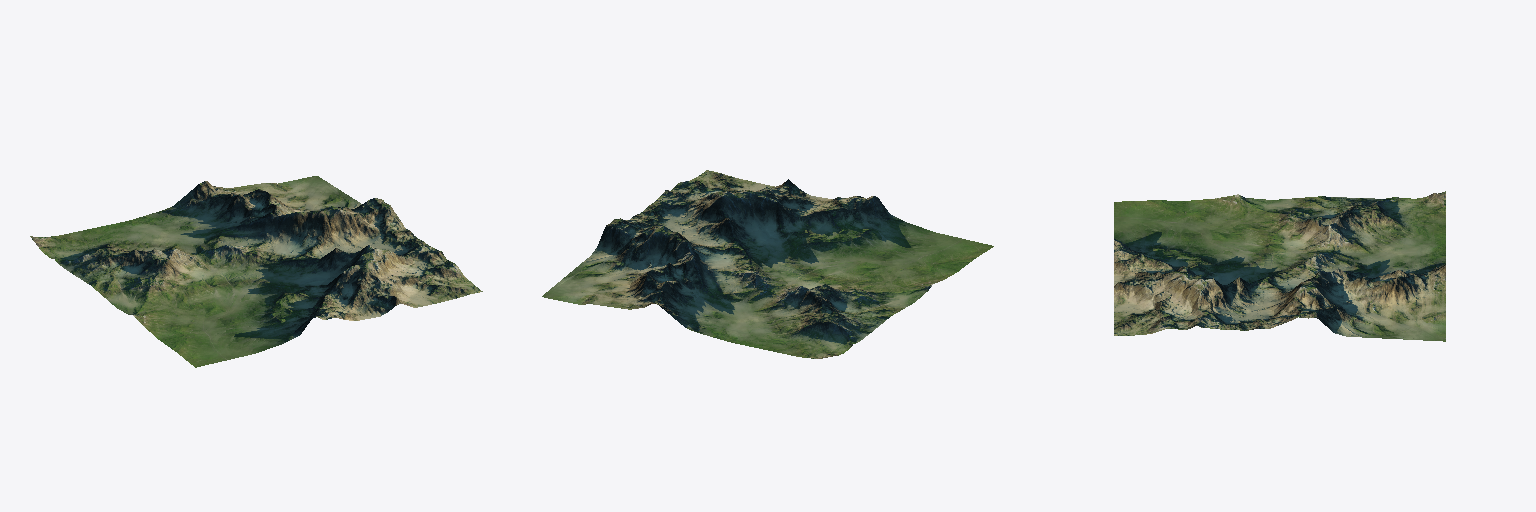
3 renders of one model, left to right at view 1: azimuth 30°, elevation 25°; view 2: azimuth 150°, elevation 25°; view 3: azimuth 270°, elevation 25°, orthographic.
Parts seen in each view (by area): view 1: mountains; view 2: mountains; view 3: mountains.
Boxes of the visible parts, x1,y1,x2,y2 form: mountains: [30, 176, 482, 367]; mountains: [542, 170, 993, 358]; mountains: [1114, 191, 1445, 341].
Bounding box in the file's own units: 401 × 43.99 × 401.
1 materials, 1 textured.